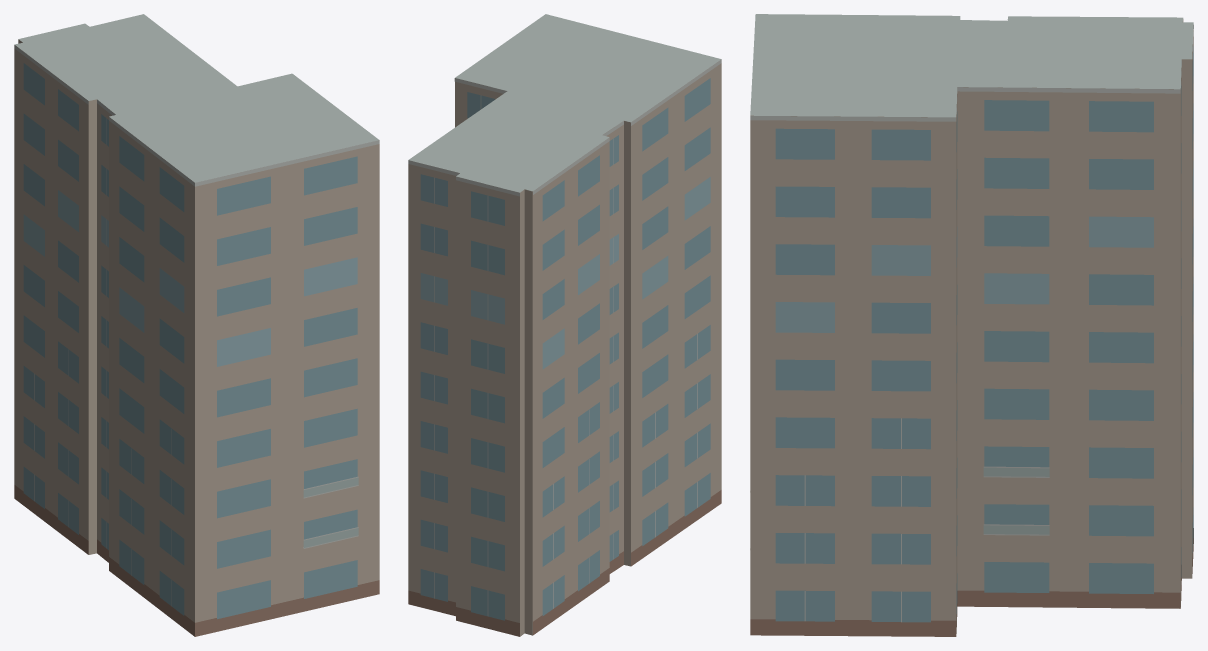
Rendered from survey-upis-33035515.glb.
3 renders of one model, left to right at view 1: azimuth 30°, elevation 25°; view 2: azimuth 150°, elevation 25°; view 3: azimuth 270°, elevation 25°, orthographic. The views are drawn at different scales.
Parts seen in each view (by area): view 1: survey-upis-33035515.tmp; view 2: survey-upis-33035515.tmp; view 3: survey-upis-33035515.tmp.
Boxes of the visible parts, x1,y1,x2,y2 form: survey-upis-33035515.tmp: [14, 14, 379, 636]; survey-upis-33035515.tmp: [408, 14, 721, 636]; survey-upis-33035515.tmp: [750, 14, 1193, 636].
Bounding box in the file's own units: 12.19 × 28.56 × 22.11.
